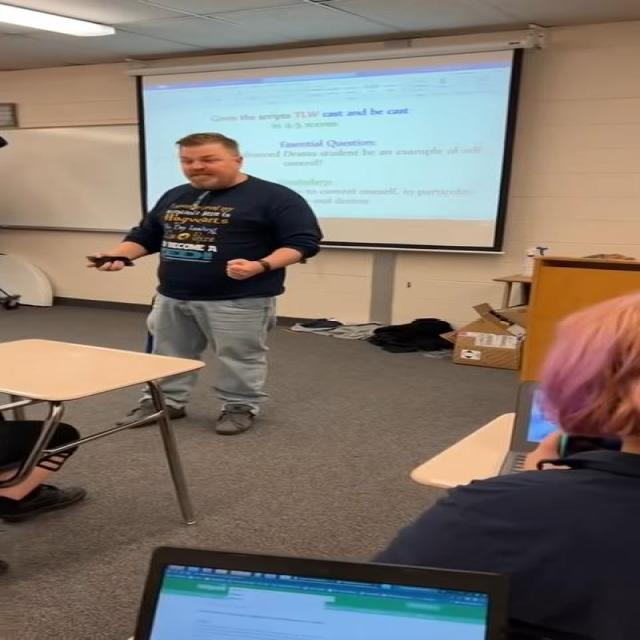NO-Mask: (178, 138, 242, 188)
